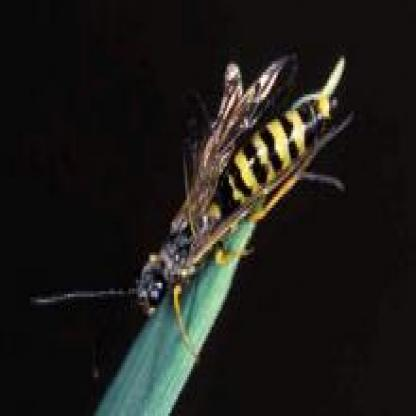sawfly: (30, 39, 357, 349)
